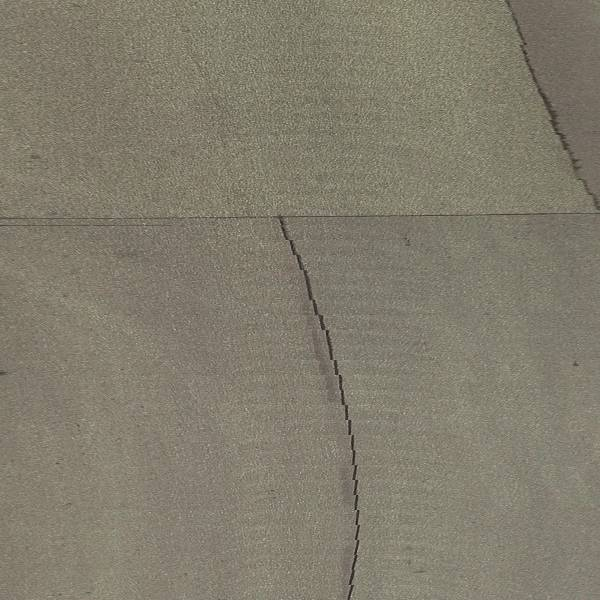road_damage: (66, 131, 600, 233)
